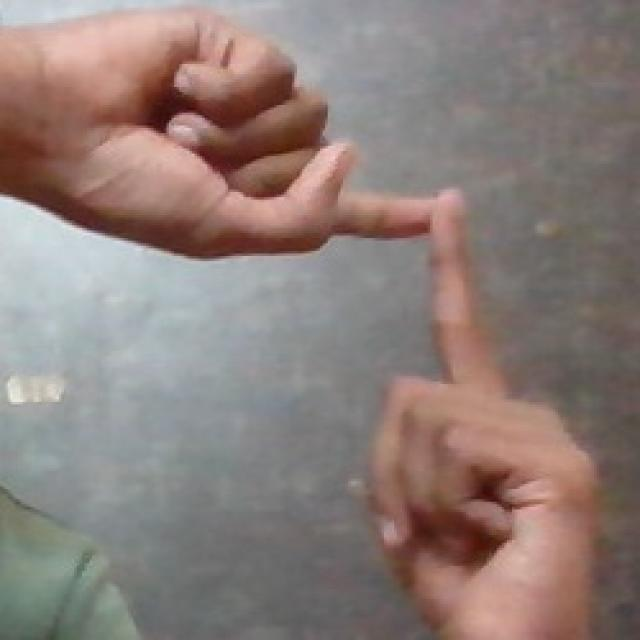Alphabet-E: (1, 8, 594, 640), (1, 13, 431, 259)
